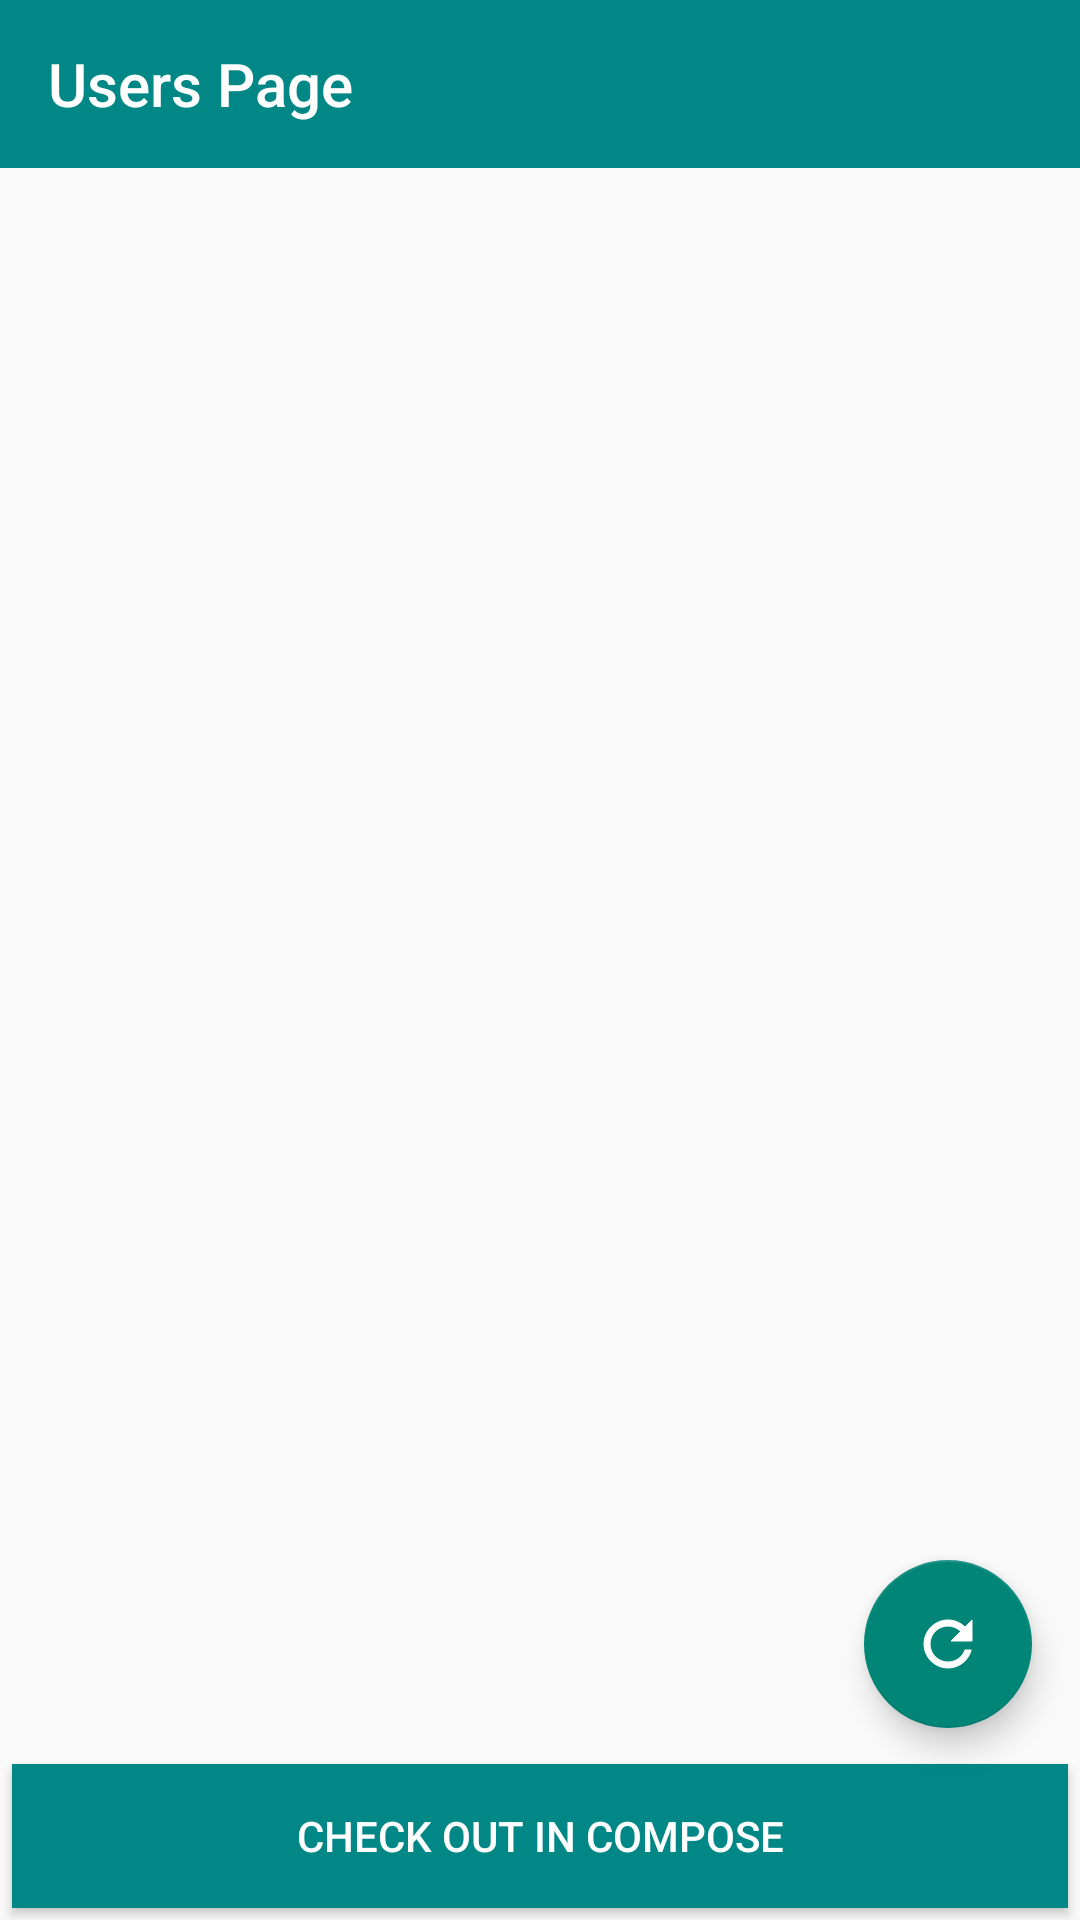

Where to tap for icons on this 1080 x 1920 app screen, as point (x, y):
refresh: point (948, 1644)
